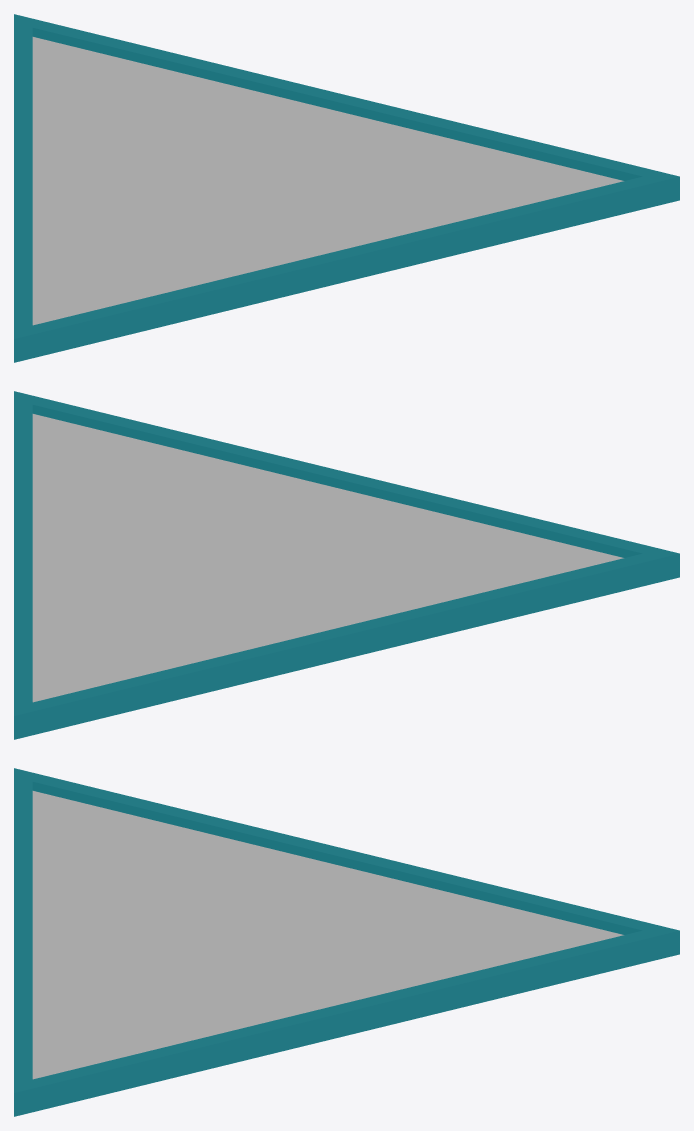
Rendered from SFI0310035.fbx.
3 renders of one model, top to bottom at view 1: azimuth 30°, elevation 25°; view 2: azimuth 150°, elevation 25°; view 3: azimuth 270°, elevation 25°, orthographic.
Parts seen in each view (by area): view 1: smSFI0310035; view 2: smSFI0310035; view 3: smSFI0310035.
Boxes of the visible parts, <box> form: smSFI0310035: <box>14,14,679,362</box>; smSFI0310035: <box>14,391,679,739</box>; smSFI0310035: <box>14,768,679,1116</box>.
Bounding box in the file's own units: 173 × 5.93 × 150.
